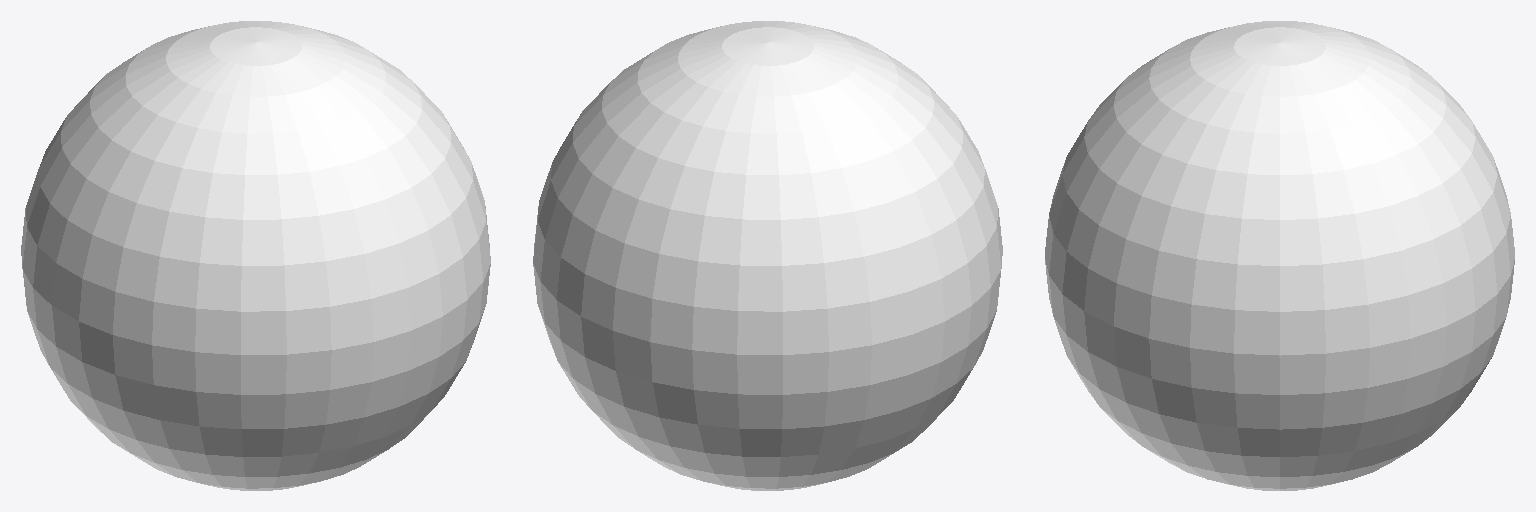
The picture shows the model from 3 angles: view 1: azimuth 30°, elevation 25°; view 2: azimuth 150°, elevation 25°; view 3: azimuth 270°, elevation 25°; orthographic projection.
Parts seen in each view (by area): view 1: Sphere; view 2: Sphere; view 3: Sphere.
Part boxes in pixels (bbox=[...]): Sphere: bbox=[21, 21, 490, 490]; Sphere: bbox=[533, 21, 1002, 490]; Sphere: bbox=[1045, 21, 1514, 490].
Size of the model in its own units: 0.3 by 0.3 by 0.3.
Materials: 1 (1 with a texture image).